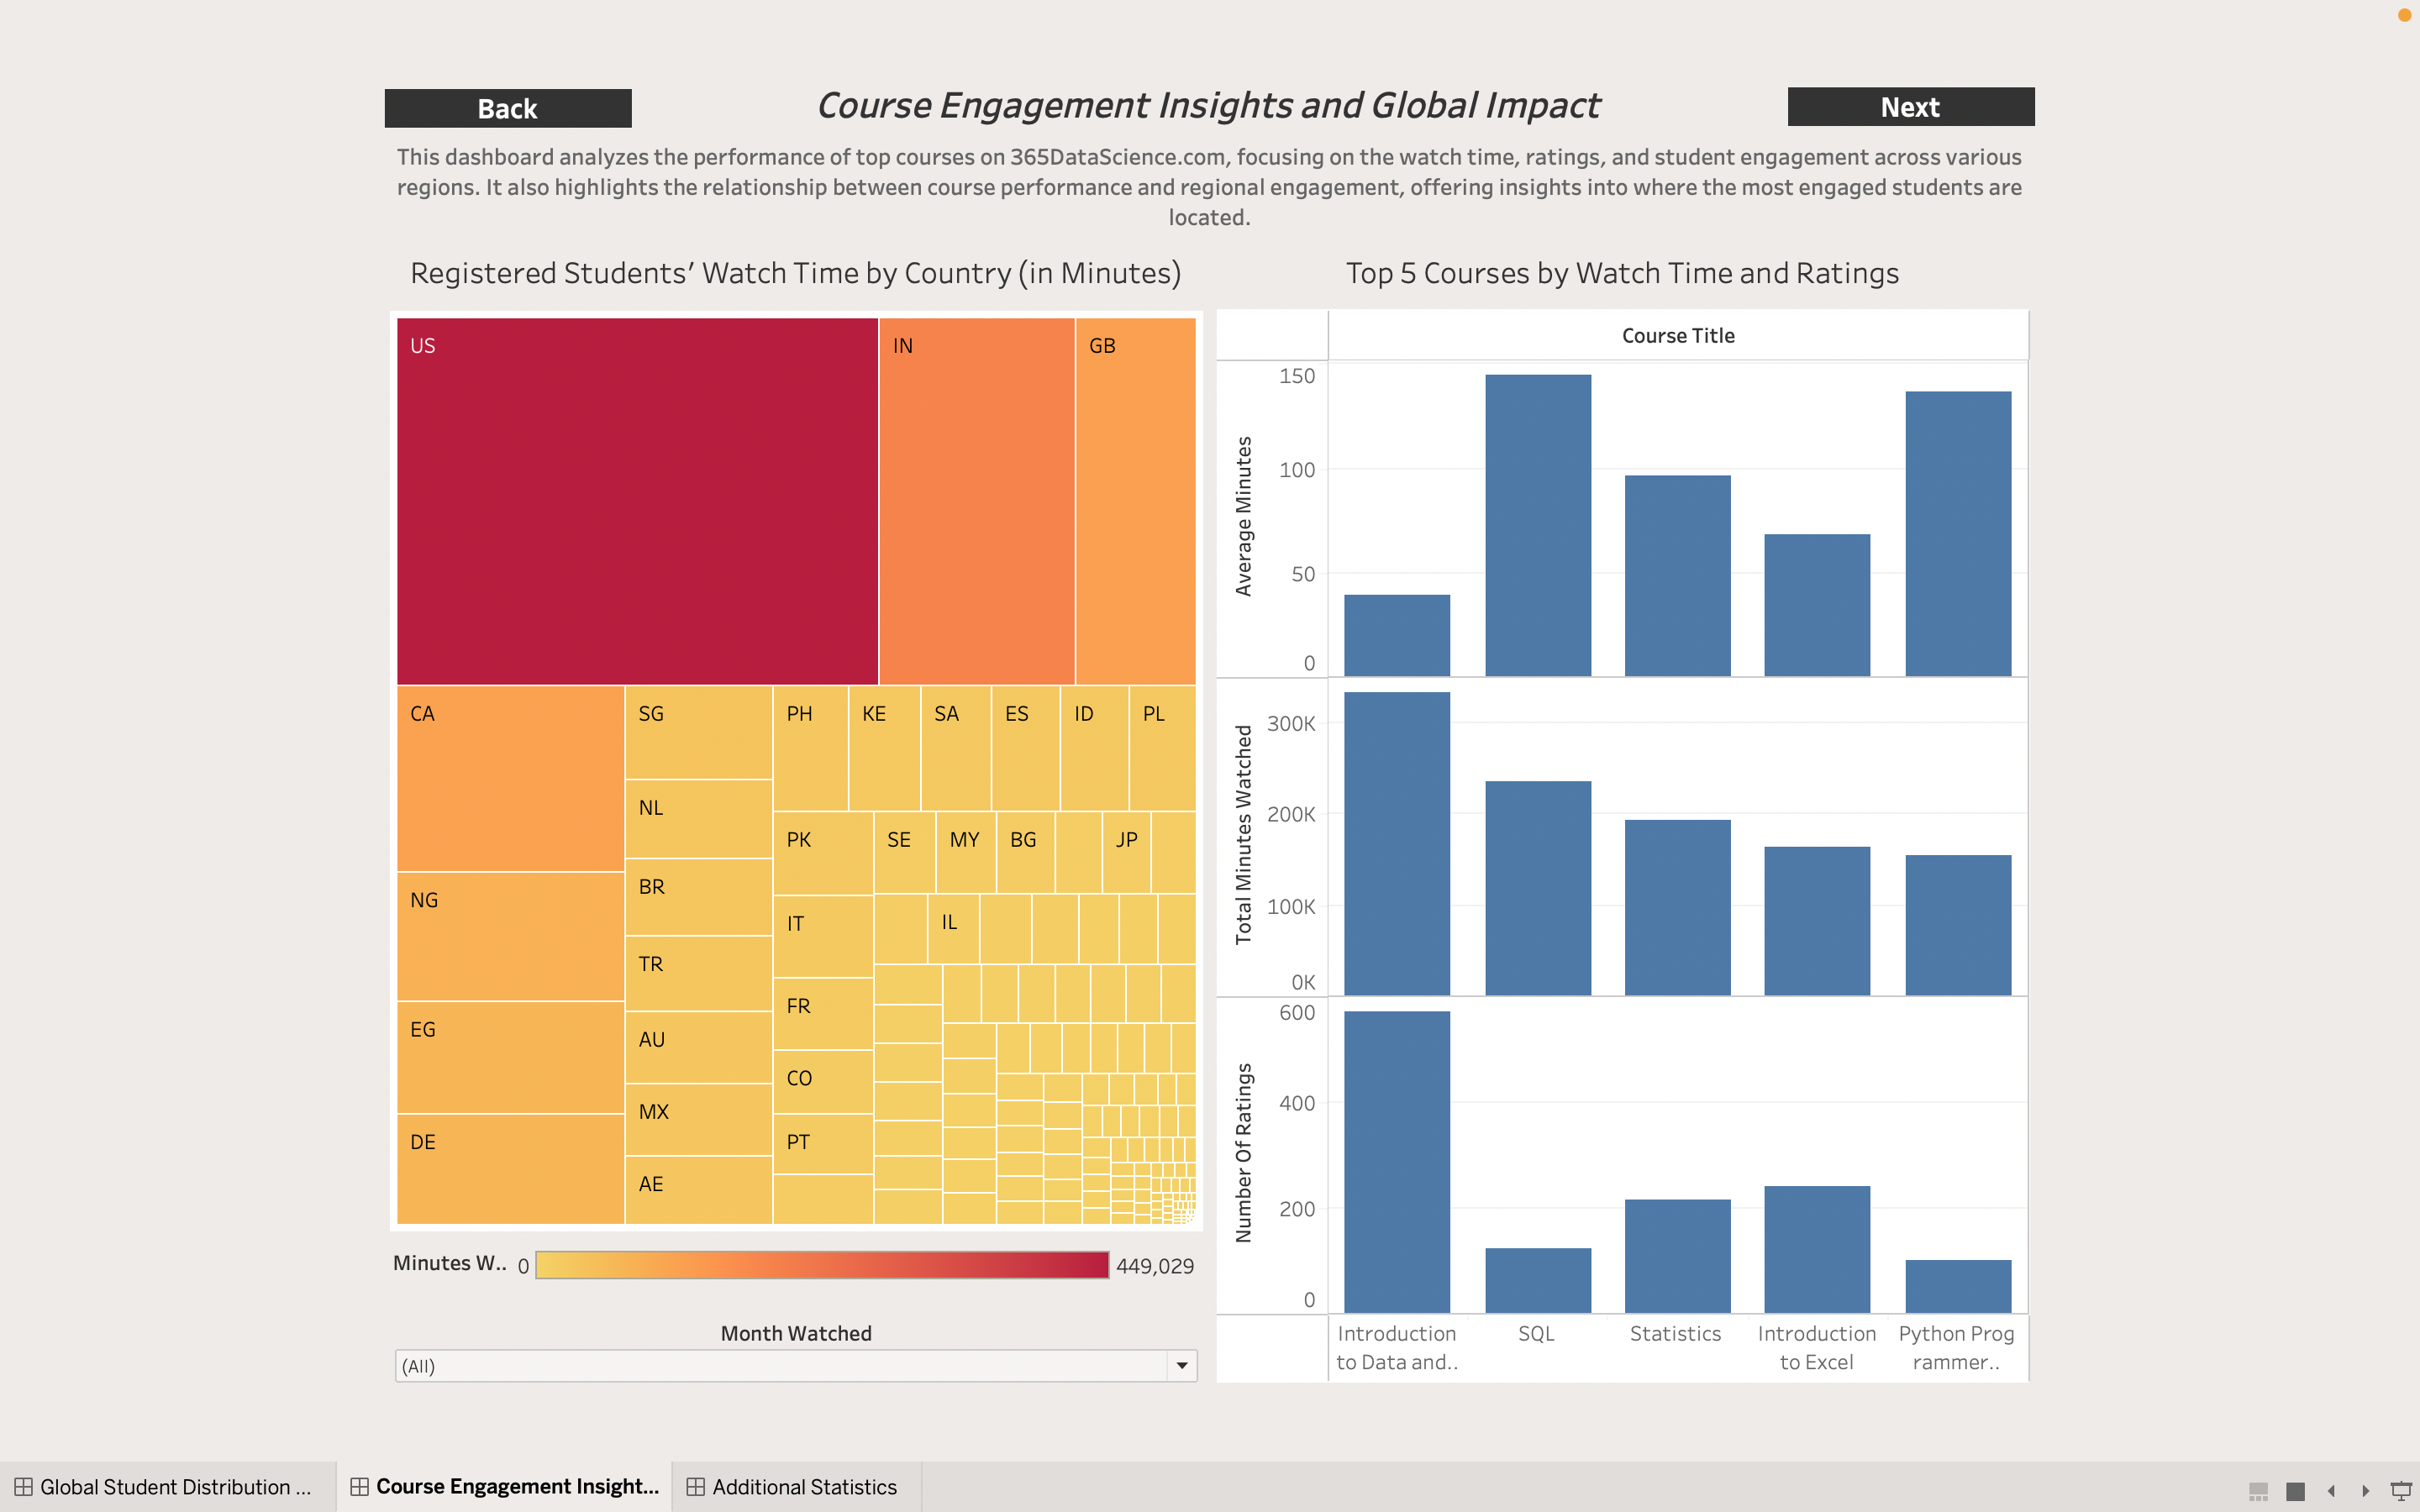

The page's visual inventory and layout, read from the dashboard file:
{"tool":"tableau","page":{"name":"Course Engagement Insights and Global Impact","canvas":[1000,800],"ordinal":1},"visuals":[{"type":"title","box":[8,8,984,37]},{"type":"dashboard-object","box":[844,17,147,23]},{"type":"dashboard-object","box":[9,18,147,23]},{"type":"text","box":[8,45,984,62]},{"type":"worksheet","title":"Registered Students' Watch Time by Country (in Minutes)","mark":"Automatic","box":[8,107,492,594.5]},{"type":"worksheet","title":"Top 5 Courses by Watch Time and Ratings","mark":"Automatic","rows":["average_minutes","total_minutes_watched","number_of_ratings"],"cols":["course_title"],"box":[500,107,492,685]},{"type":"legend","title":"Registered Students' Watch Time by Country (in Minutes)","param":"[federated.0qudcsv05uts8n14vjasq0xkklva].[sum:minutes_watched:qk]","box":[8,701.5,492,44.3]},{"type":"filter","title":"Registered Students' Watch Time by Country (in Minutes)","param":"[federated.0qudcsv05uts8n14vjasq0xkklva].[mn:date_watched:ok]","box":[8,745.8,492,46.2]}]}

Visuals, with their boxes on the page's 1000x800 design canvas (x1, y1, x2, y2). These are canvas units, not pixel positions in the 2420x1512 screenshot, which may show the page scaled, cropped or inside an application window:
title: box=[8, 8, 992, 45]
dashboard-object: box=[844, 17, 991, 40]
dashboard-object: box=[9, 18, 156, 41]
text: box=[8, 45, 992, 107]
"Registered Students' Watch Time by Country (in Minutes)" worksheet: box=[8, 107, 500, 702]
"Top 5 Courses by Watch Time and Ratings" worksheet: box=[500, 107, 992, 792]
"Registered Students' Watch Time by Country (in Minutes)" legend: box=[8, 702, 500, 746]
"Registered Students' Watch Time by Country (in Minutes)" filter: box=[8, 746, 500, 792]
